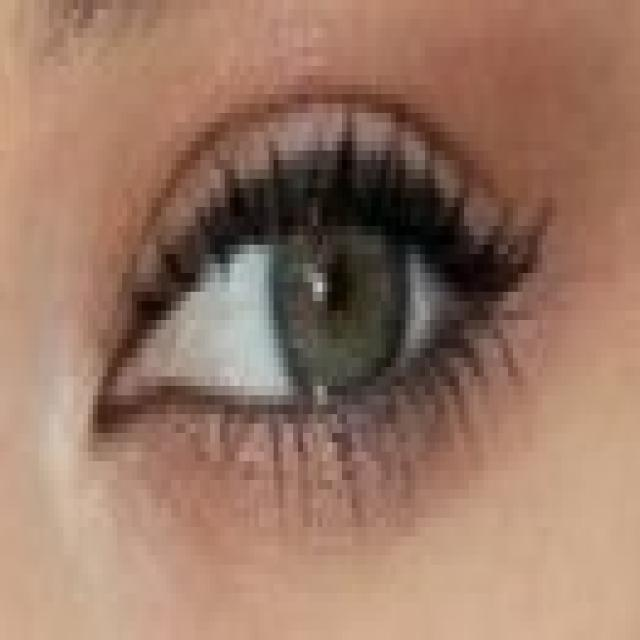Normal: (270, 168, 408, 422)
